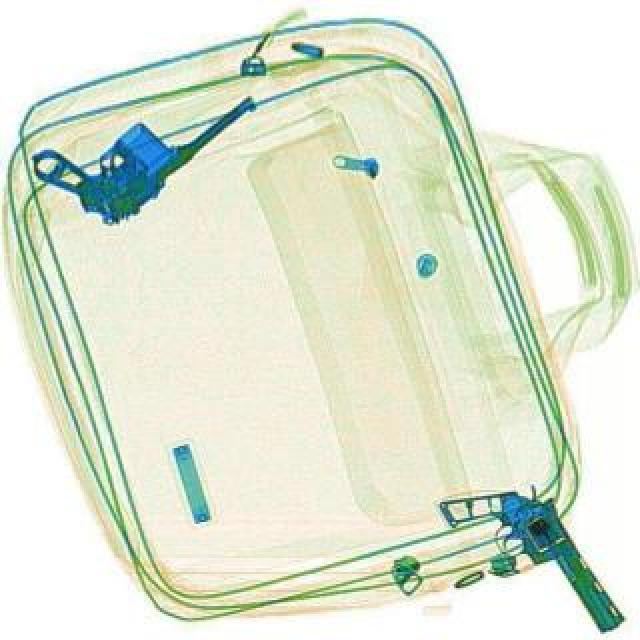gun: (18, 26, 262, 242), (458, 464, 612, 638)
